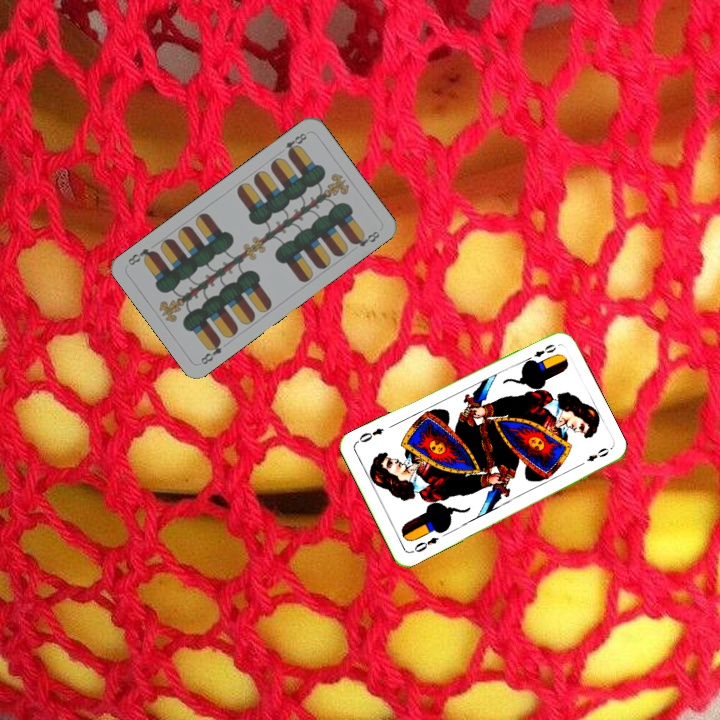E8: (196, 335, 225, 367), (281, 129, 309, 158)
EO: (522, 340, 559, 365), (410, 533, 441, 555)
